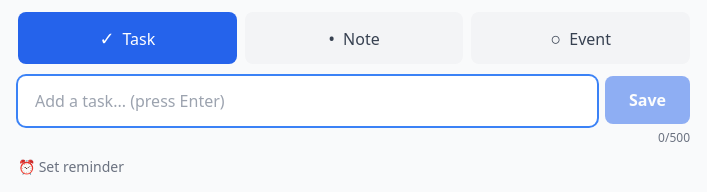
Test case: EntryInput › should switch to note type when selected
Click the button "•Note" at (354, 38), box [245,12,463,64]
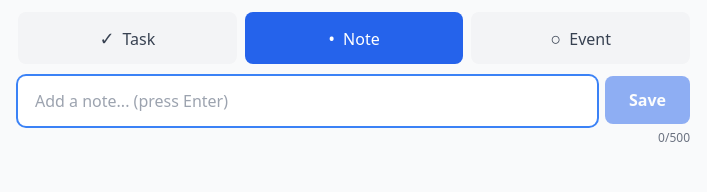
Expected: the field with placeholder "Add a note... (press Enter)" is shown, [18,76,597,126]
